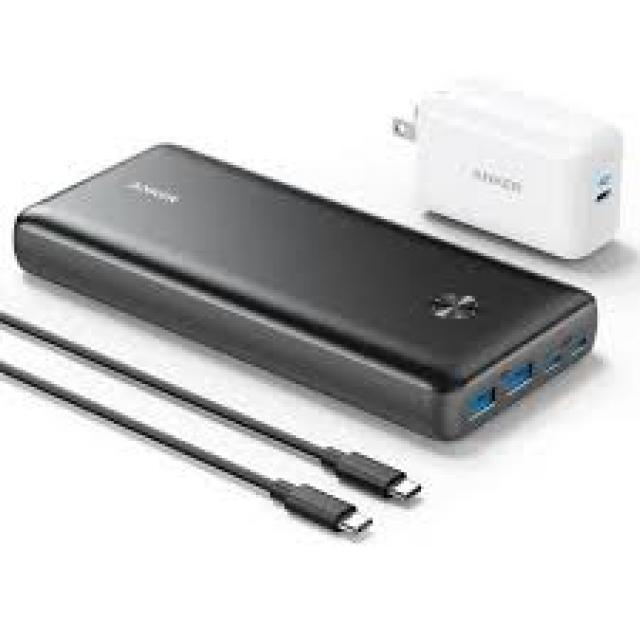battery: (14, 141, 598, 439)
